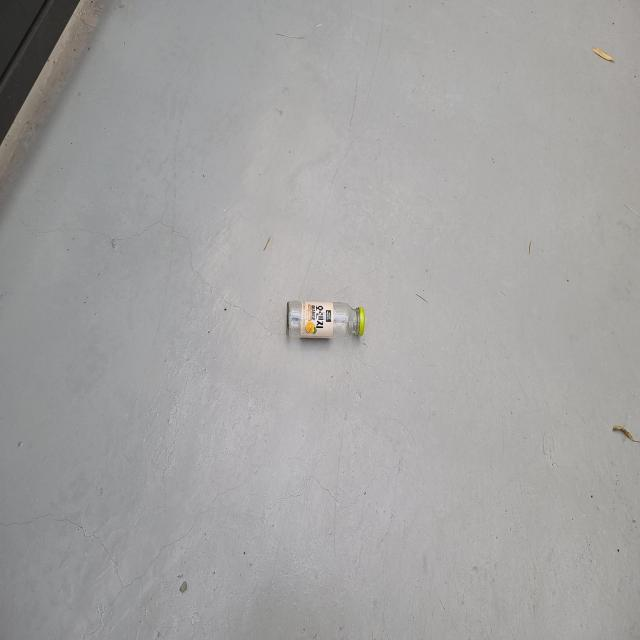glass: (286, 300, 365, 338)
